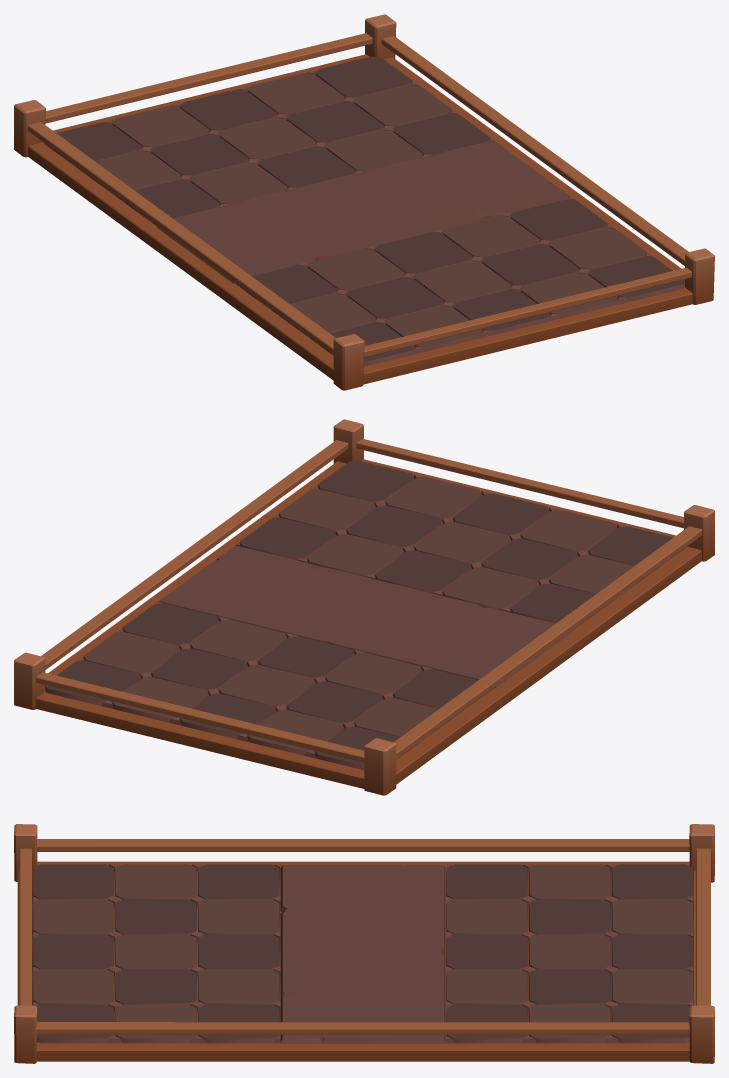
3 views of the same model, one above another, from view 1: azimuth 30°, elevation 25°; view 2: azimuth 150°, elevation 25°; view 3: azimuth 270°, elevation 25° (orthographic). The views are drawn at different scales.
Visible parts, largest first — view 1: Map03_Platform; view 2: Map03_Platform; view 3: Map03_Platform.
Boxes of the visible parts, left/top/right/bottom form: Map03_Platform: left=14, top=14, right=714, bottom=390; Map03_Platform: left=14, top=419, right=714, bottom=795; Map03_Platform: left=14, top=824, right=714, bottom=1063.
Bounding box in the file's own units: 11.03 × 1.28 × 16.94.
Materials: 1 (1 with a texture image).
